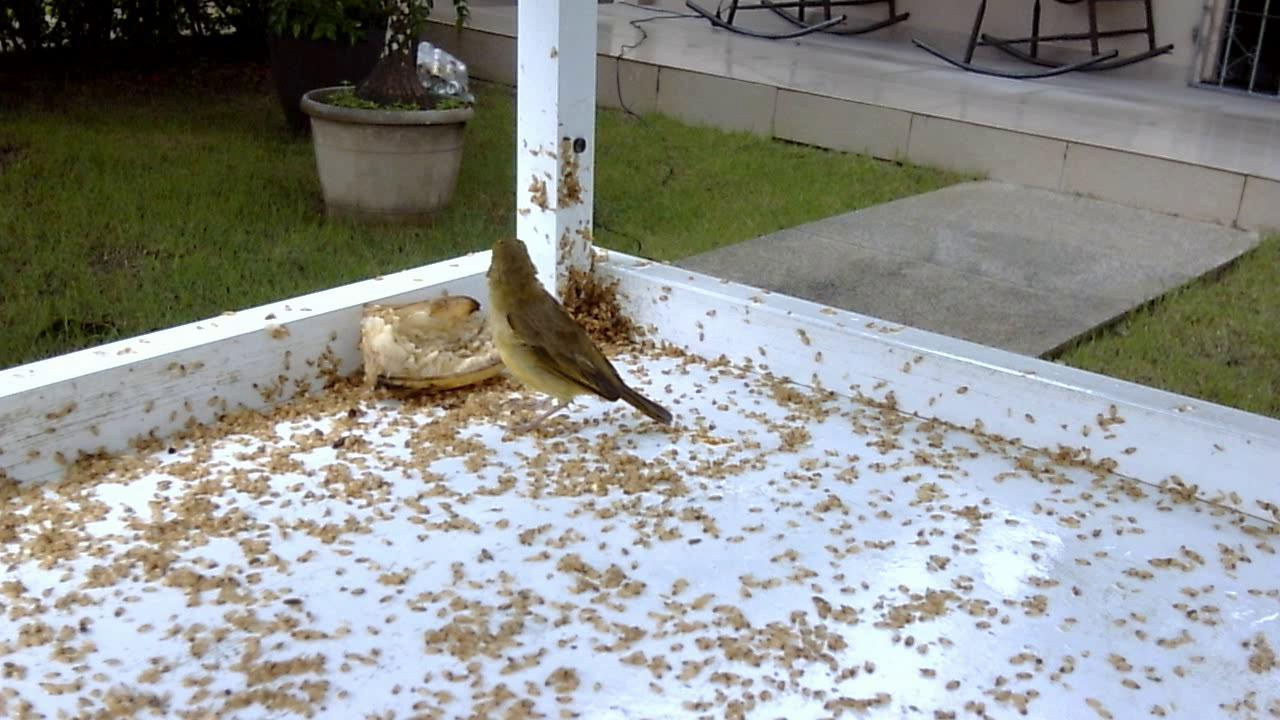canario_do_amazonas: (477, 234, 674, 430)
